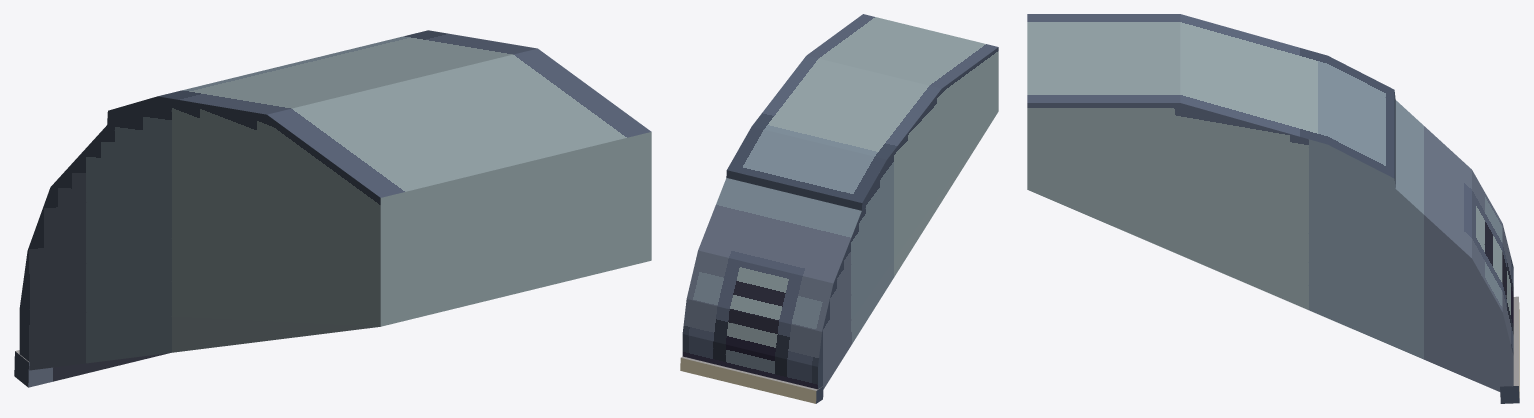
The model's file is df11_carport_equip_b_lh.obj.
The picture shows the model from 3 angles, left to right: view 1: azimuth 30°, elevation 25°; view 2: azimuth 150°, elevation 25°; view 3: azimuth 270°, elevation 25°; orthographic projection. The views are drawn at different scales.
Parts seen in each view (by area): view 1: cube_selection; view 2: cube_selection; view 3: cube_selection.
Boxes of the visible parts, x1,y1,x2,y2 form: cube_selection: (14,30,651,387); cube_selection: (680,14,998,403); cube_selection: (1027,14,1519,403).
Size of the model in its own units: 0.6891 by 1.08 by 1.61.
